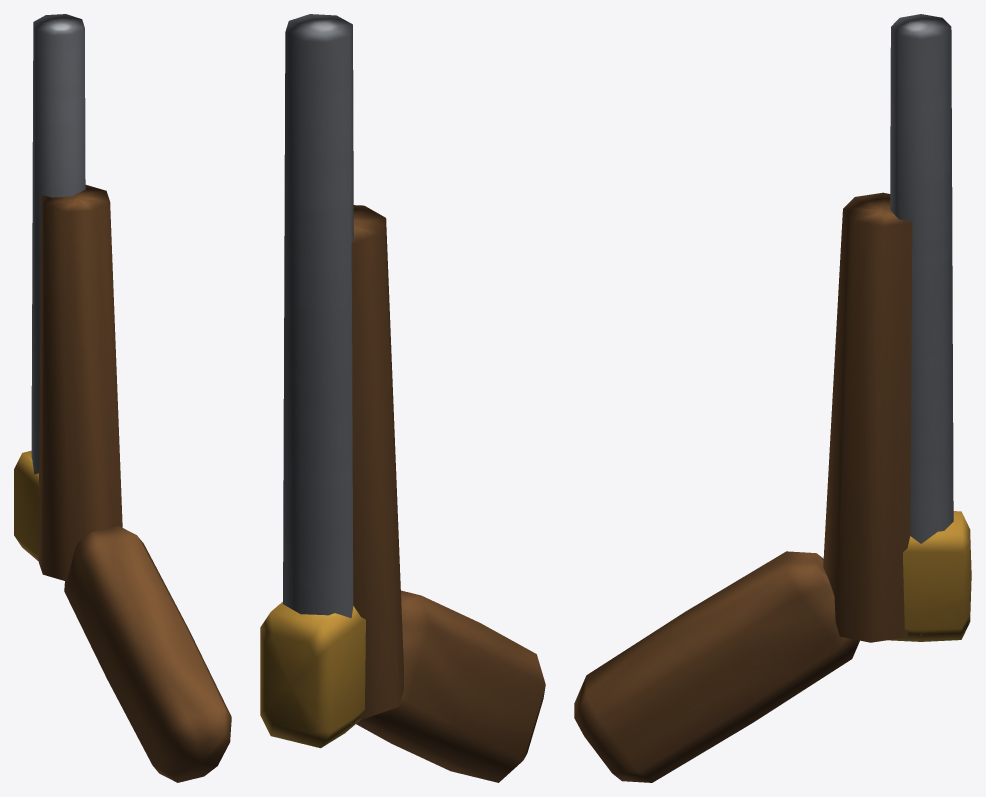
File: pistolet-silex.glb
The picture shows the model from 3 angles, left to right: view 1: azimuth 30°, elevation 25°; view 2: azimuth 150°, elevation 25°; view 3: azimuth 270°, elevation 25°; orthographic projection. The views are drawn at different scales.
Visible parts, largest first — view 1: pistolet-silex; view 2: pistolet-silex; view 3: pistolet-silex.
Boxes of the visible parts, left/top/right/bottom form: pistolet-silex: left=14, top=14, right=231, bottom=782; pistolet-silex: left=260, top=14, right=545, bottom=782; pistolet-silex: left=574, top=14, right=971, bottom=782.
Bounding box in the file's own units: 0.04 × 0.3266 × 0.1575.
1 material, 1 textured.
